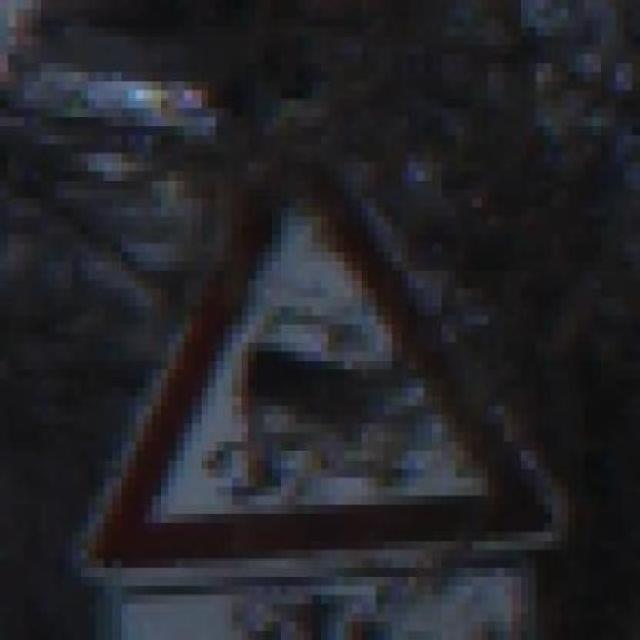Slippery Road Ahead: (72, 90, 576, 578)
